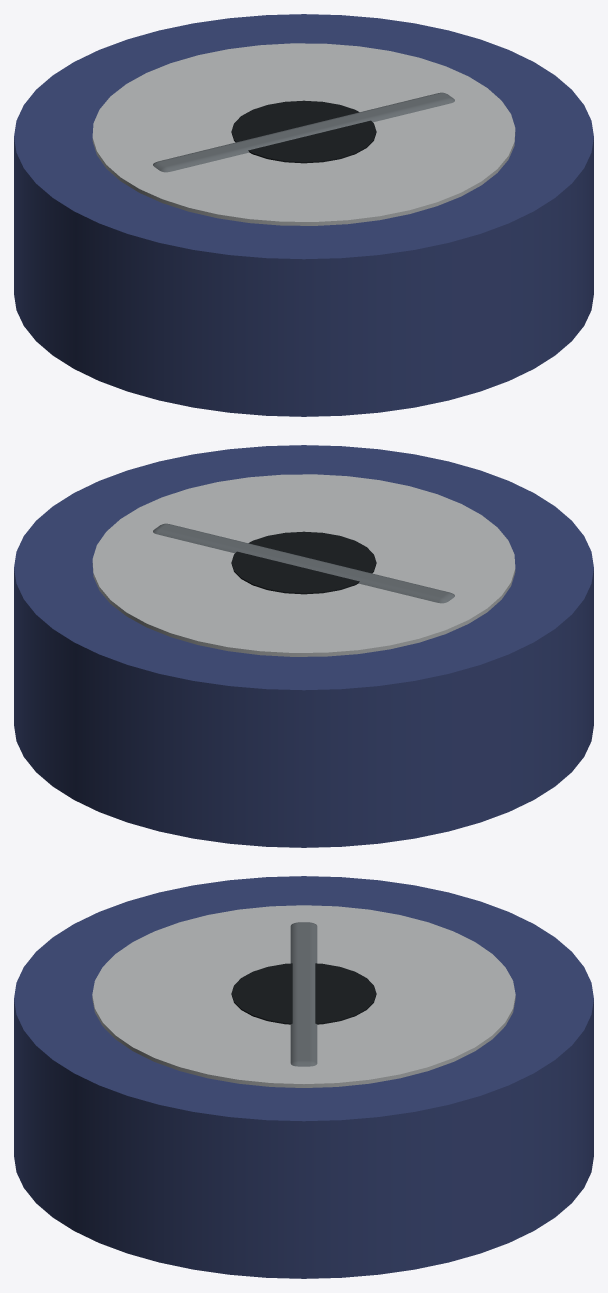
Rendered from left_wheel_link.obj.
3 renders of one model, top to bottom at view 1: azimuth 30°, elevation 25°; view 2: azimuth 150°, elevation 25°; view 3: azimuth 270°, elevation 25°, orthographic.
Parts seen in each view (by area): view 1: left_wheel_link_tyre, left_wheel_link_hub, left_wheel_link_axle, left_wheel_link_spoke; view 2: left_wheel_link_tyre, left_wheel_link_hub, left_wheel_link_axle, left_wheel_link_spoke; view 3: left_wheel_link_tyre, left_wheel_link_hub, left_wheel_link_axle, left_wheel_link_spoke.
Part boxes in pixels (<box>): left_wheel_link_tyre: <box>14,14,593,416</box>; left_wheel_link_hub: <box>92,43,515,225</box>; left_wheel_link_axle: <box>231,100,376,163</box>; left_wheel_link_spoke: <box>153,92,454,172</box>; left_wheel_link_tyre: <box>14,445,593,847</box>; left_wheel_link_hub: <box>92,474,515,656</box>; left_wheel_link_axle: <box>231,531,376,594</box>; left_wheel_link_spoke: <box>153,523,454,603</box>; left_wheel_link_tyre: <box>14,876,593,1278</box>; left_wheel_link_hub: <box>92,905,515,1087</box>; left_wheel_link_axle: <box>231,963,376,1024</box>; left_wheel_link_spoke: <box>290,922,317,1066</box>.
Size of the model in its own units: 0.2 by 0.065 by 0.2.
